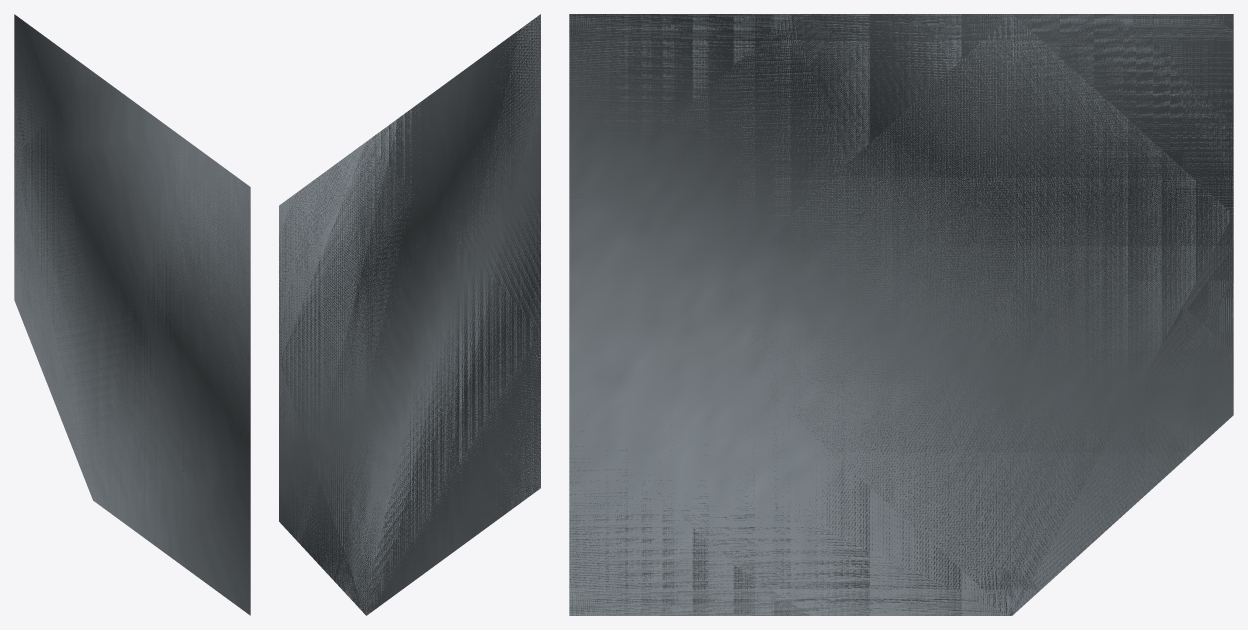
3 views of the same model, side by side, from view 1: azimuth 30°, elevation 25°; view 2: azimuth 150°, elevation 25°; view 3: azimuth 270°, elevation 25° (orthographic). The views are drawn at different scales.
Size of the model in its own units: 0 by 0.72 by 0.72.
1 material, 1 textured.
